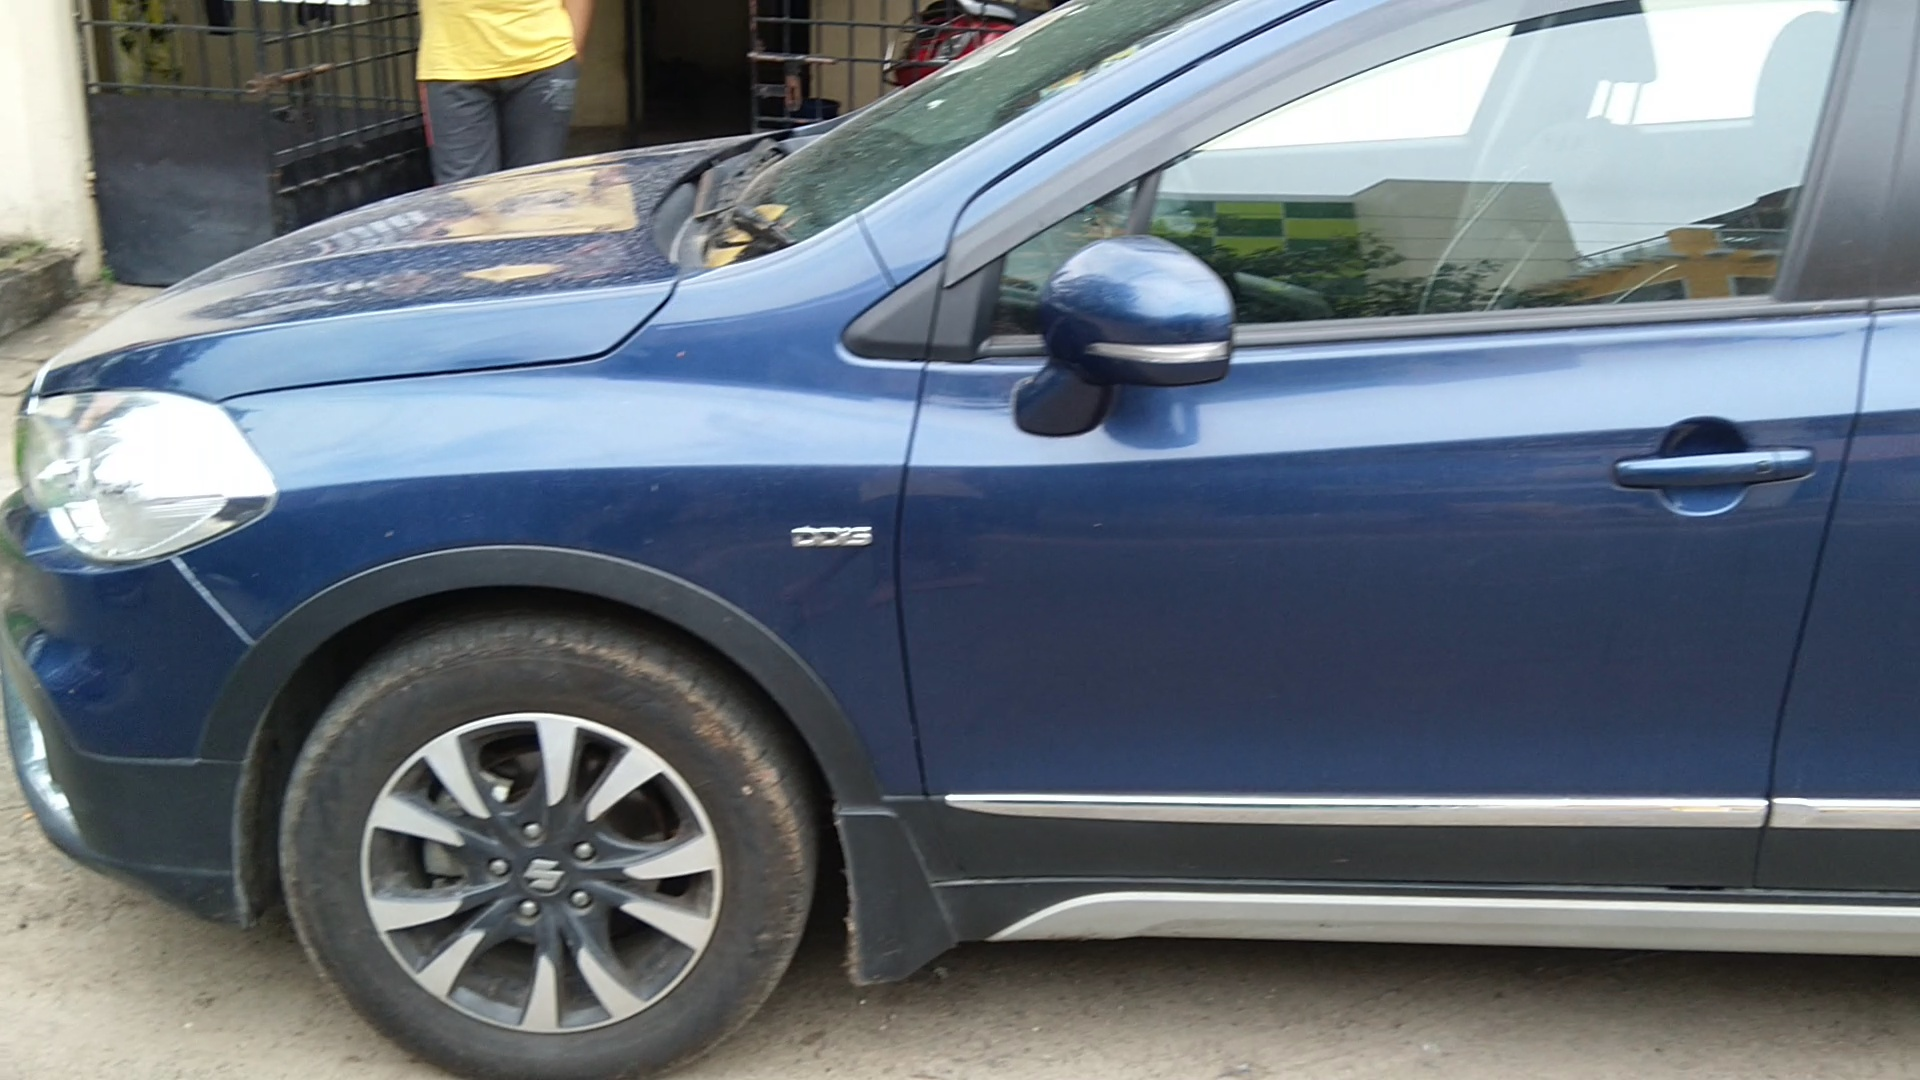alloy_wheel: (291, 636, 814, 1080)
headlamp: (4, 360, 295, 578)
ovr_mirror: (1000, 229, 1244, 462)
